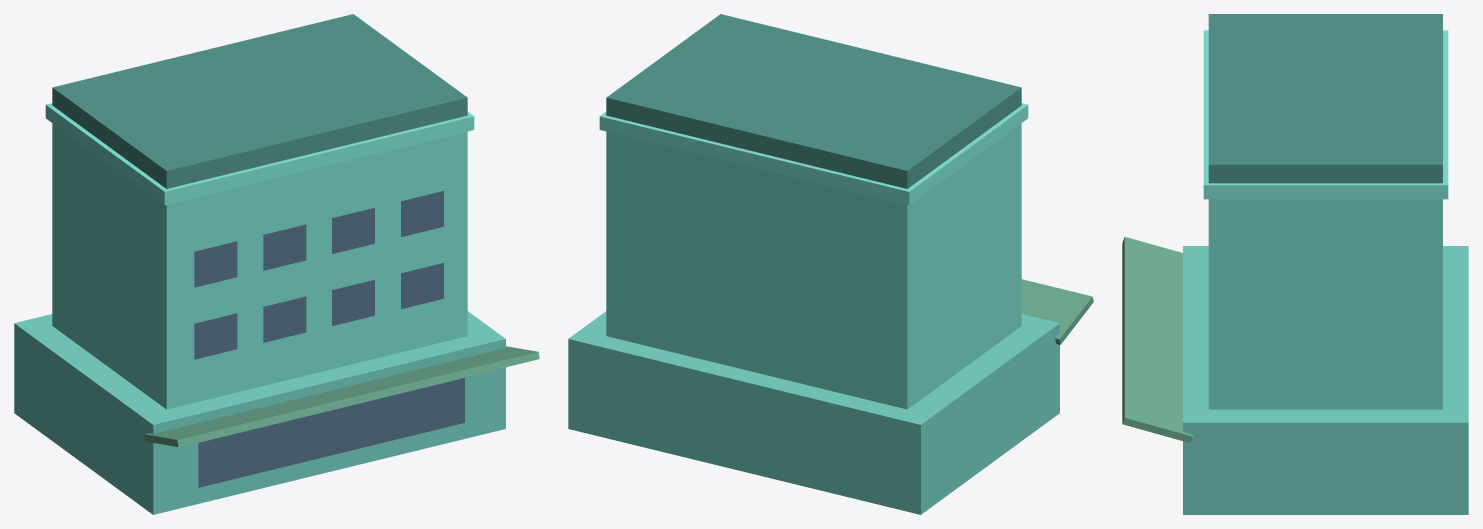
Rendered from main_street_block.glb.
3 renders of one model, left to right at view 1: azimuth 30°, elevation 25°; view 2: azimuth 150°, elevation 25°; view 3: azimuth 270°, elevation 25°, orthographic. The views are drawn at different scales.
Parts seen in each view (by area): view 1: main_street_block; view 2: main_street_block; view 3: main_street_block.
Part boxes in pixels (box(x1,y1,x2,y2)): main_street_block: box(14, 14, 539, 514); main_street_block: box(568, 14, 1093, 514); main_street_block: box(1122, 14, 1468, 514).
Bounding box in the file's own units: 0.84 × 0.73 × 0.6791.
